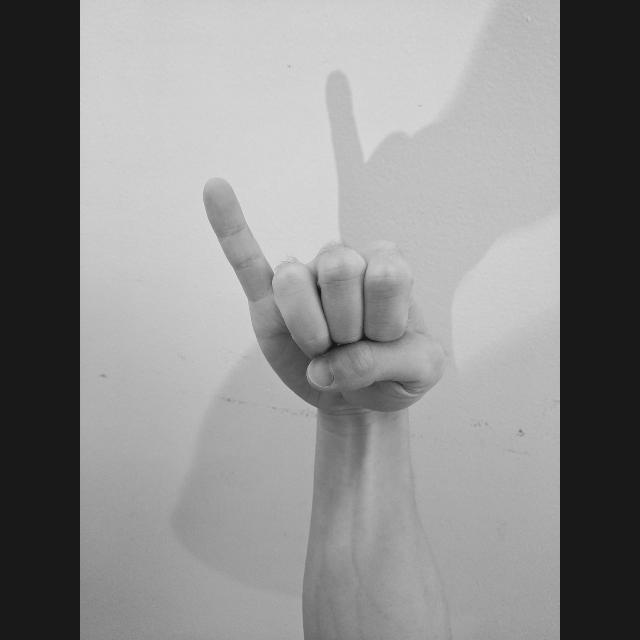I: (198, 174, 452, 416)
